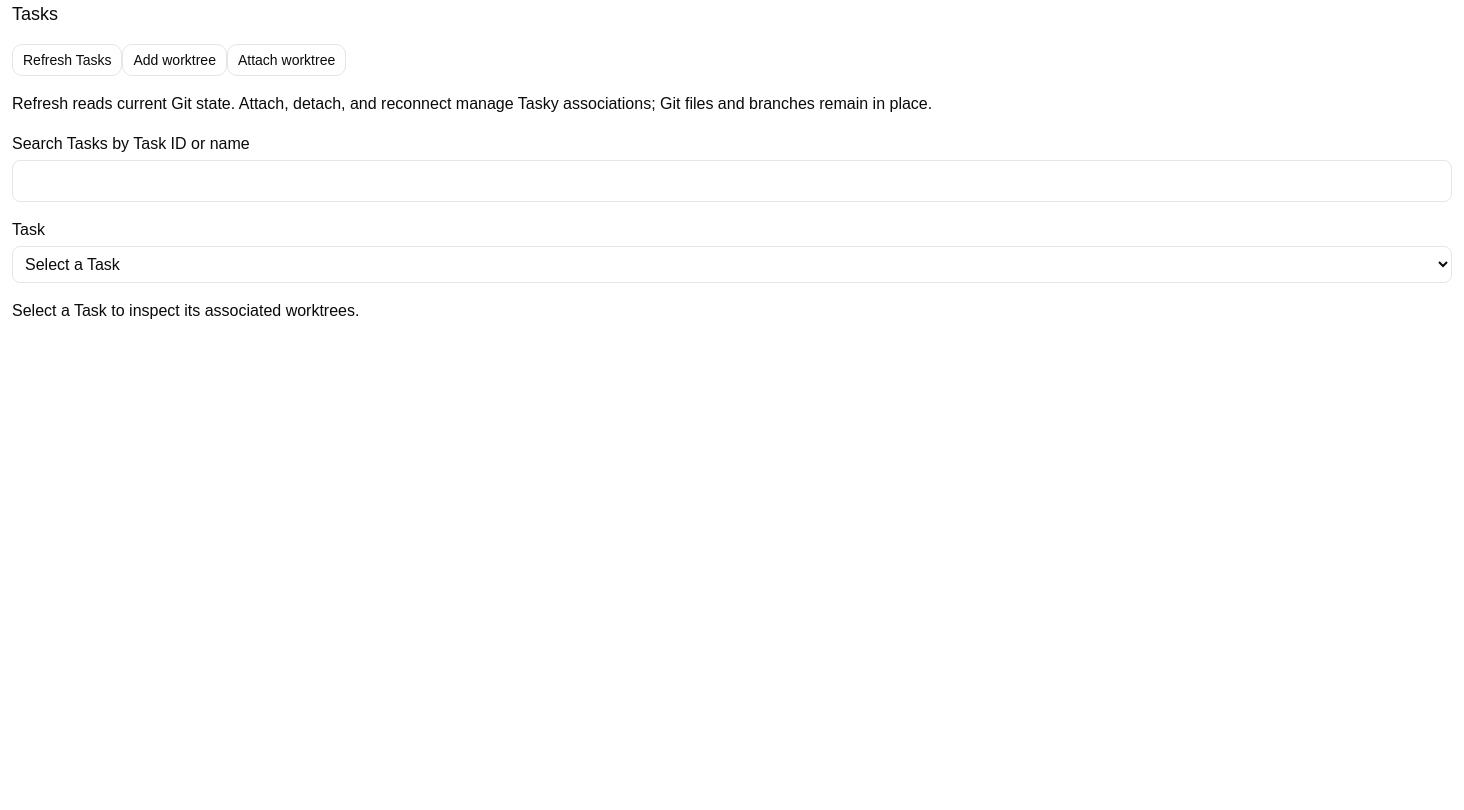
Test: searches Unicode names and IDs, selects with keyboard, and inspects live changes
Expected: the dropdown labelled "Task" shows "Select a Task", x1=12 y1=246 x2=1452 y2=283
Type "日本語" into the search field at (732, 181), box x1=12 y1=160 x2=1452 y2=202
Press Tab
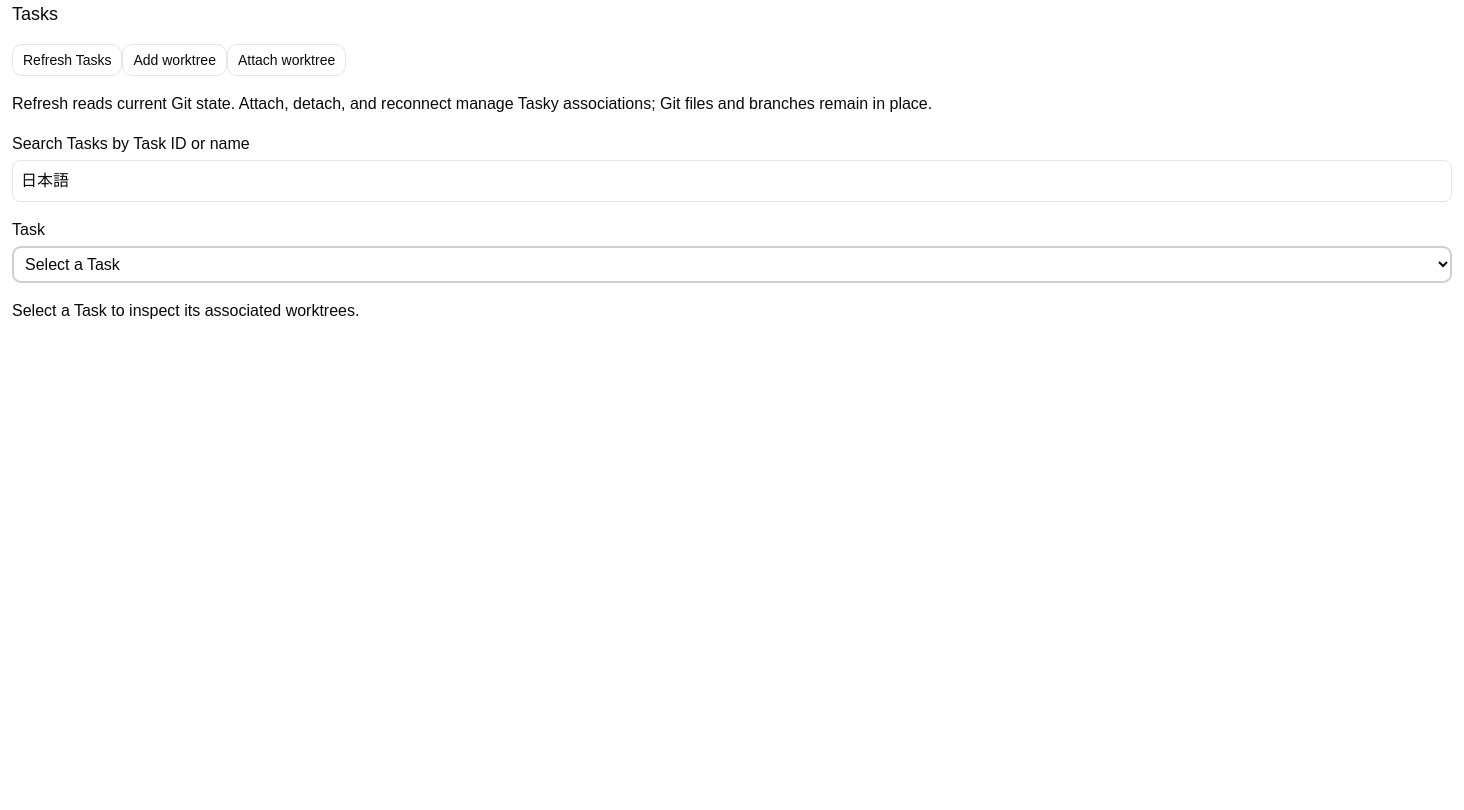
Select "T-1 — မြန်မာ 日本語" in the dropdown labelled "Task" at (732, 264), box x1=12 y1=246 x2=1452 y2=283
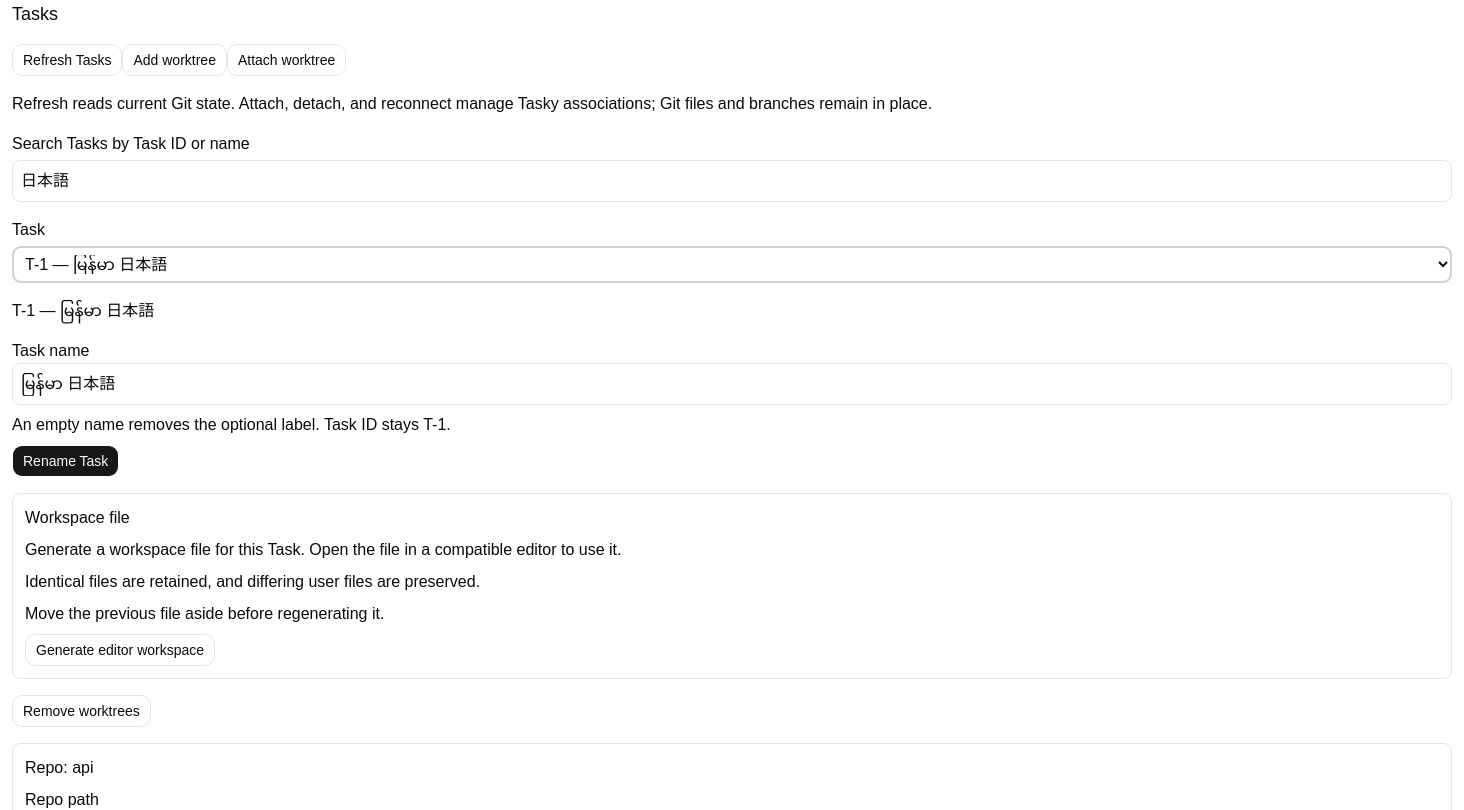
Click the button "Refresh Tasks" at (67, 60), box x1=12 y1=44 x2=122 y2=76
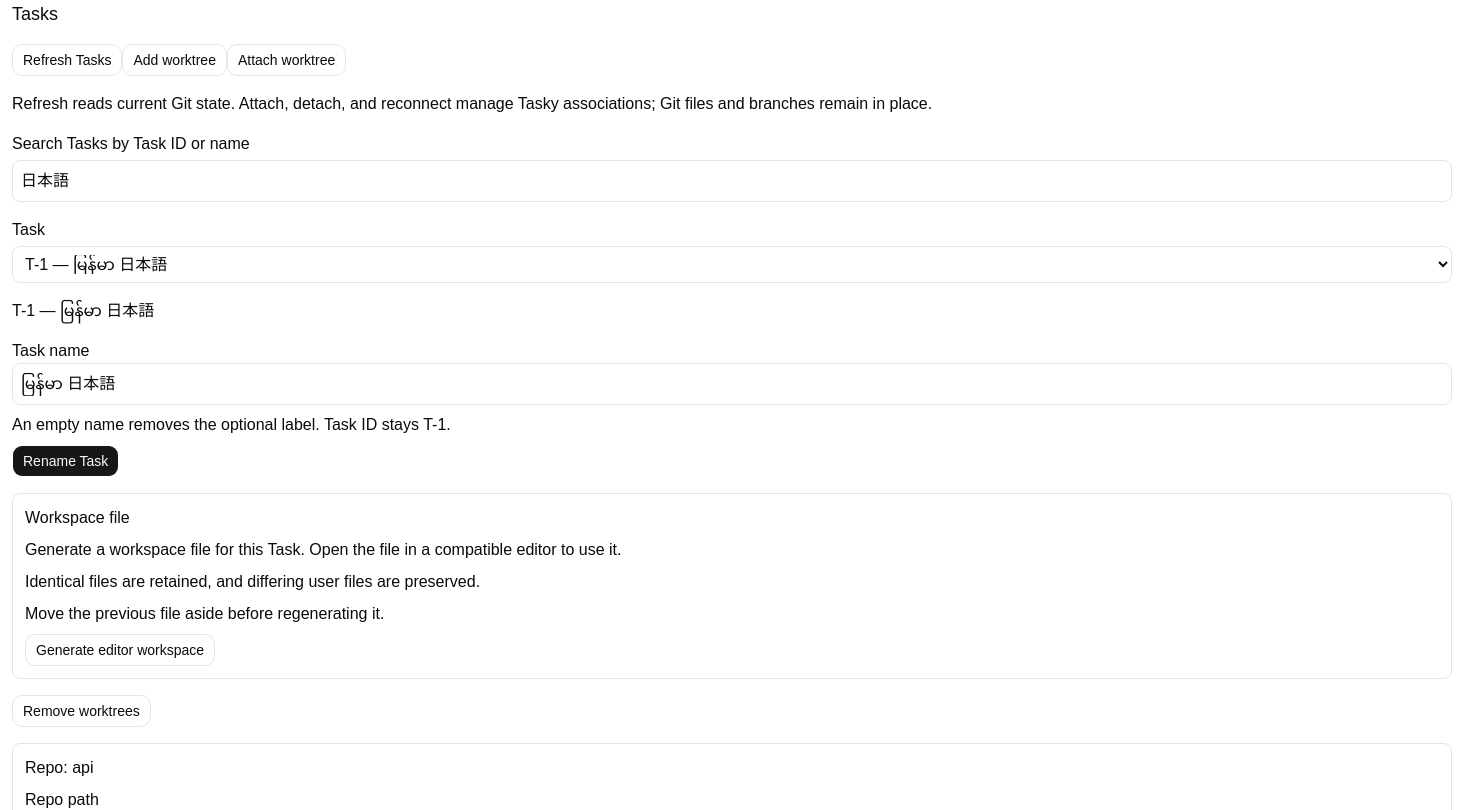
Replace the text in the search field with "t-1" at (732, 181), box x1=12 y1=160 x2=1452 y2=202
Type "no-match" into the search field at (732, 181), box x1=12 y1=160 x2=1452 y2=202
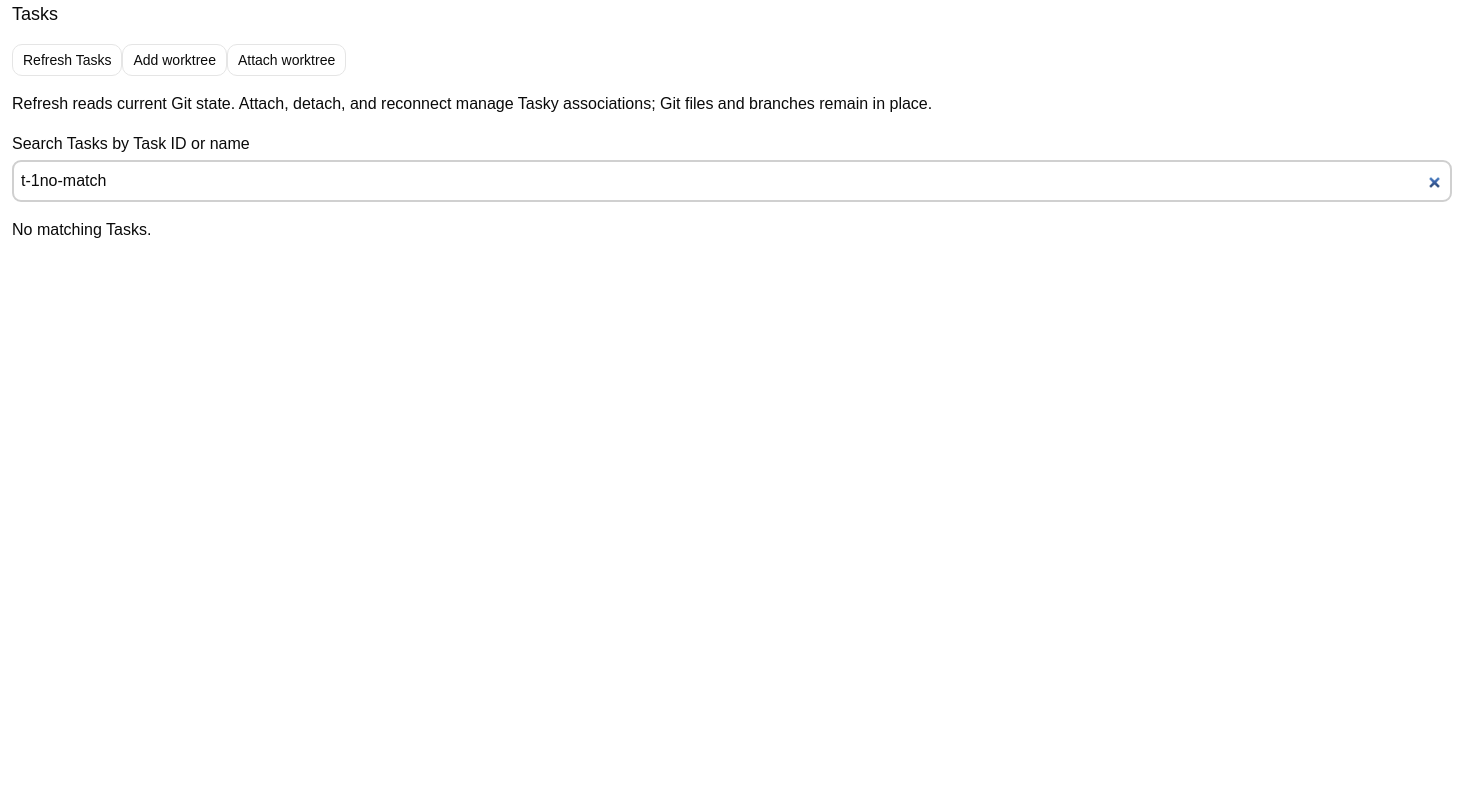
Expected: the text "No matching Tasks." is shown, x1=12 y1=221 x2=151 y2=238
Clear the search field at (732, 181), box x1=12 y1=160 x2=1452 y2=202
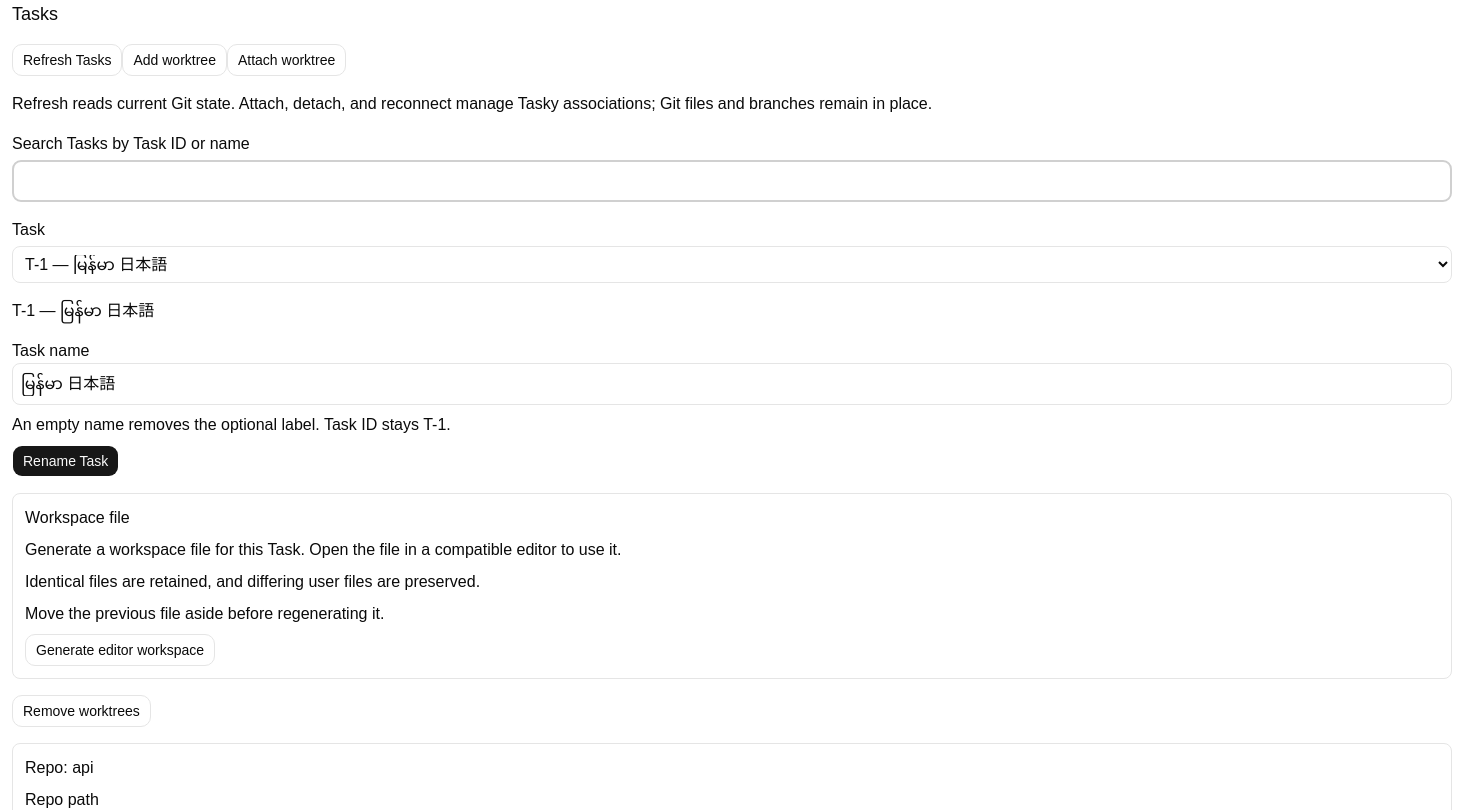
Click the button "Refresh Tasks" at (67, 60), box x1=12 y1=44 x2=122 y2=76
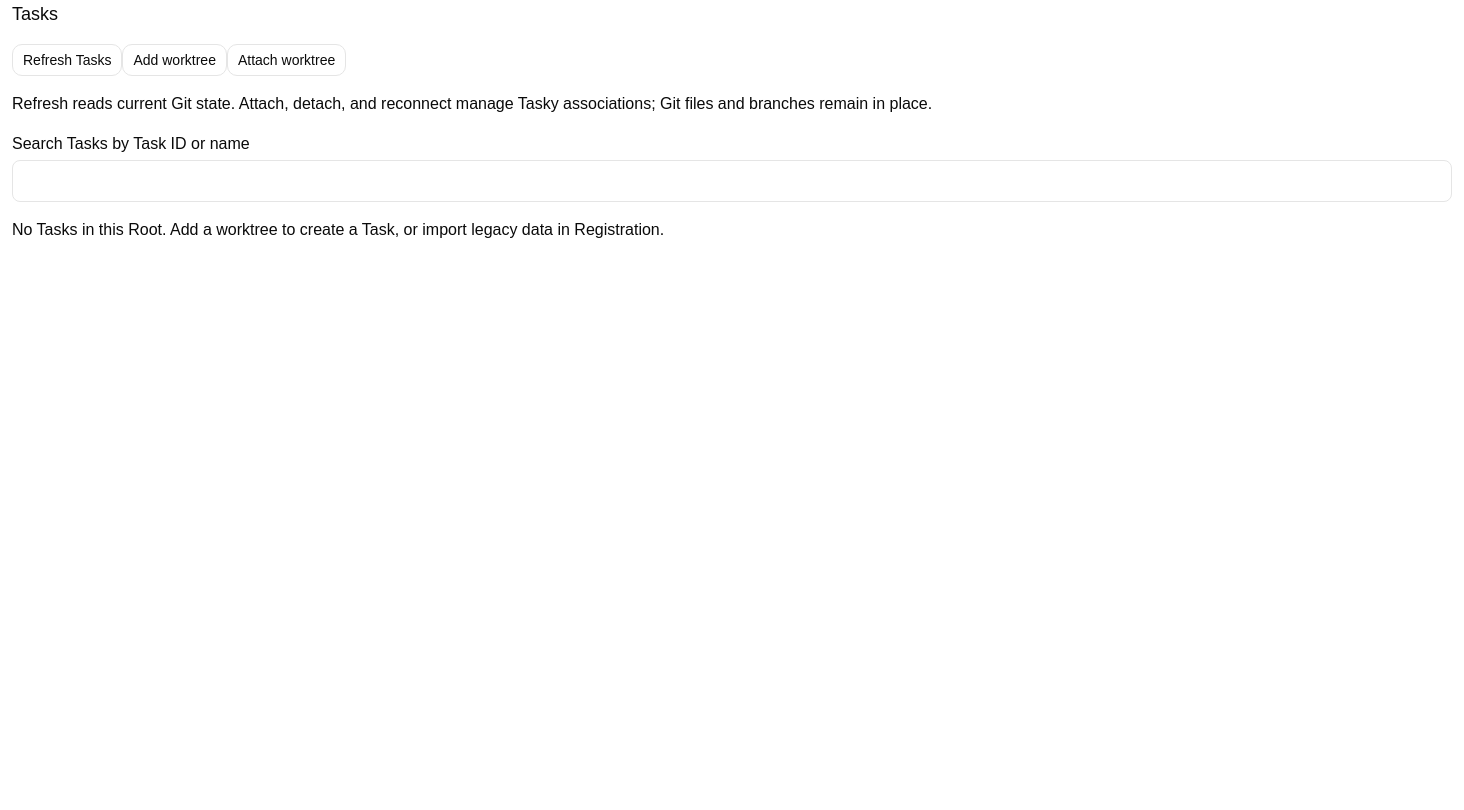
Expected: the text "No Tasks in this Root" is shown, x1=12 y1=221 x2=664 y2=238
